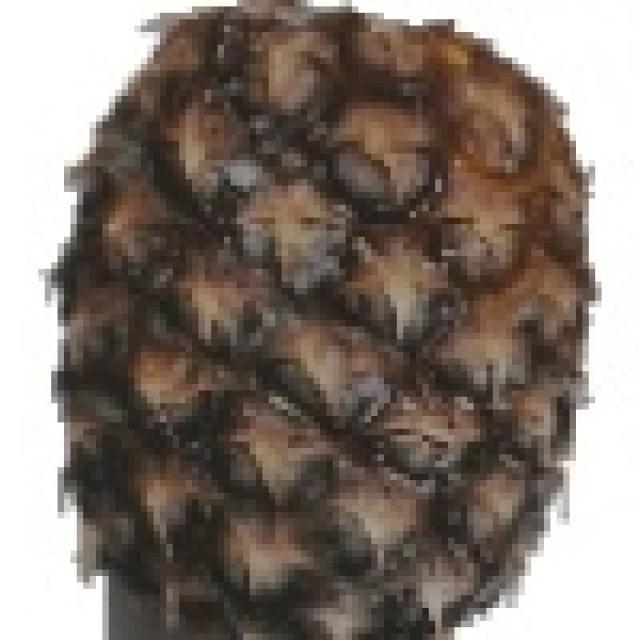pineapple: (52, 0, 595, 640)
